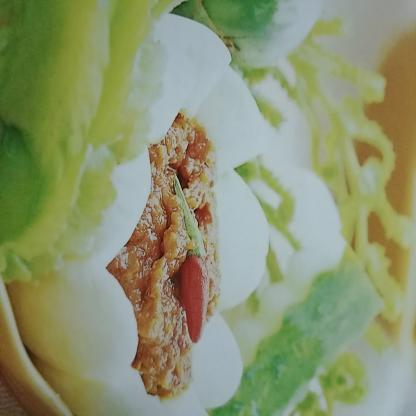Namprig: (109, 31, 239, 412)
